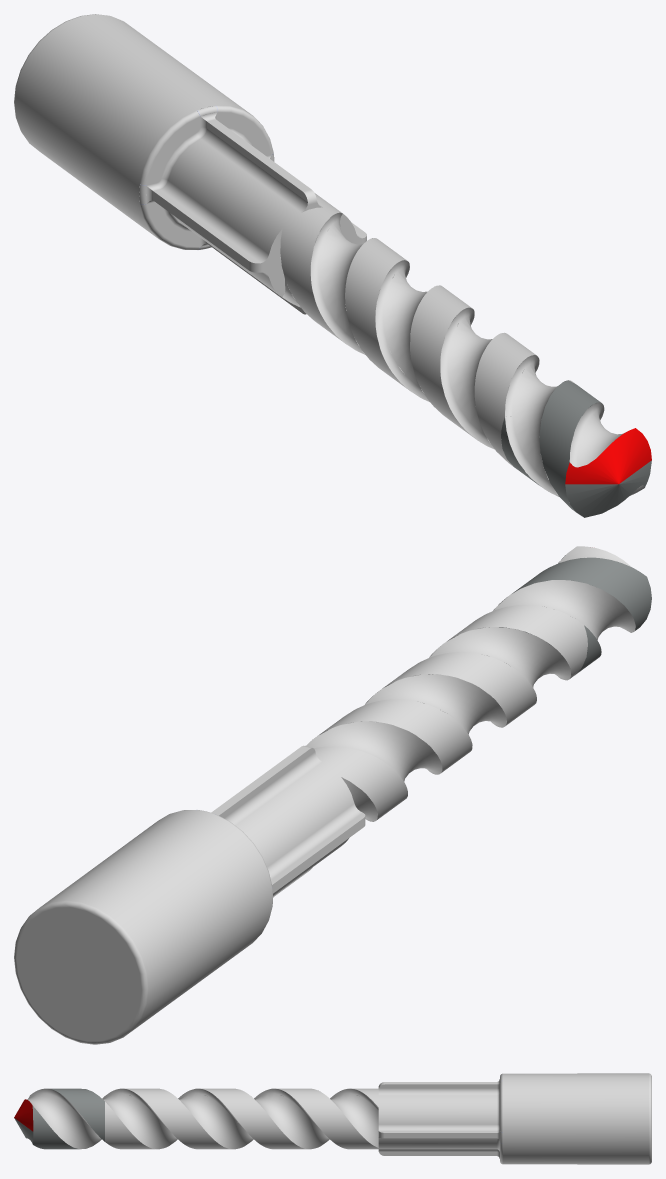
File: broca.glb
The picture shows the model from 3 angles, top to bottom: view 1: azimuth 30°, elevation 25°; view 2: azimuth 150°, elevation 25°; view 3: azimuth 270°, elevation 25°; orthographic projection. The views are drawn at different scales.
Parts seen in each view (by area): view 1: Srf1; view 2: Srf1; view 3: Srf1.
Boxes of the visible parts, x1,y1,x2,y2 form: Srf1: (14, 14, 651, 517); Srf1: (14, 546, 651, 1044); Srf1: (14, 1073, 651, 1164).
Bounding box in the file's own units: 0.15 × 0.15 × 1.05.
